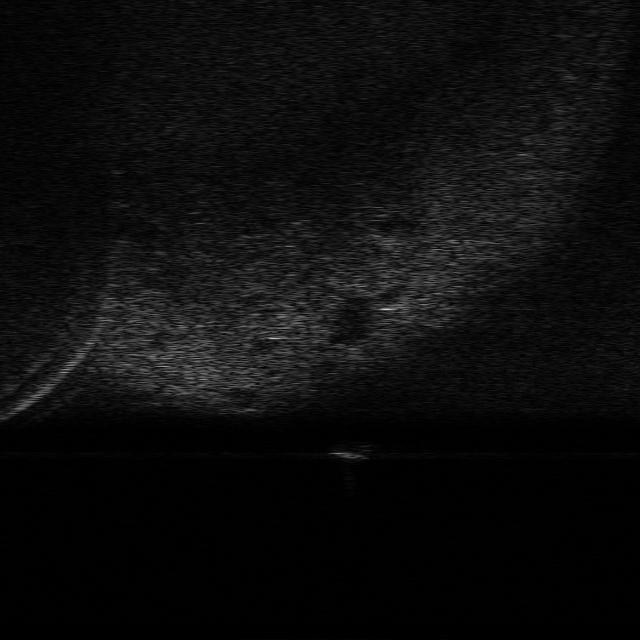cube: (332, 441, 372, 464)
